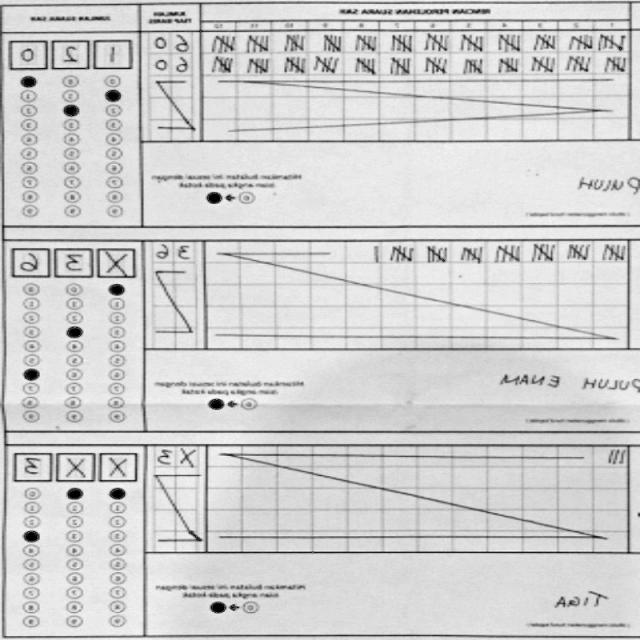Suara: (10, 446, 141, 486), (7, 241, 138, 280), (6, 34, 137, 72)
